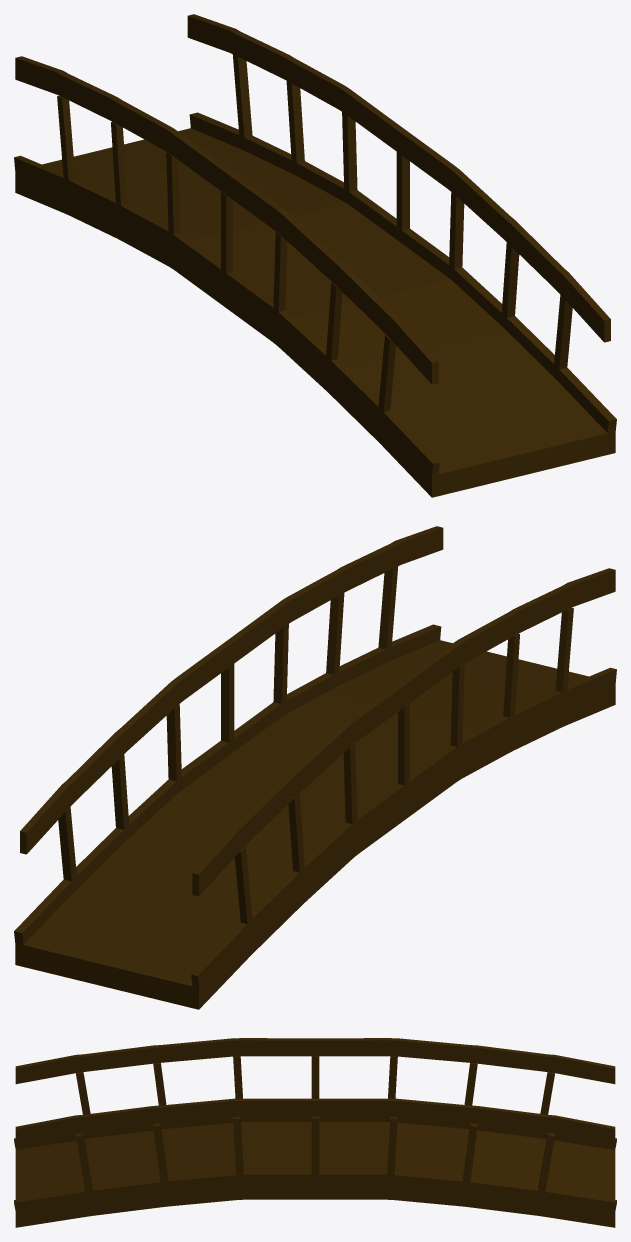
The model's file is Bridge.fbx.
3 views of the same model, one above another, from view 1: azimuth 30°, elevation 25°; view 2: azimuth 150°, elevation 25°; view 3: azimuth 270°, elevation 25° (orthographic). The views are drawn at different scales.
Visible parts, largest first — view 1: Bridge_geo, Fence_geo; view 2: Bridge_geo, Fence_geo; view 3: Bridge_geo, Fence_geo.
Boxes of the visible parts, bbox=[...] form: Bridge_geo: bbox=[14, 54, 616, 497]; Fence_geo: bbox=[15, 14, 610, 384]; Bridge_geo: bbox=[14, 566, 616, 1009]; Fence_geo: bbox=[20, 526, 615, 896]; Bridge_geo: bbox=[14, 1056, 616, 1227]; Fence_geo: bbox=[15, 1038, 615, 1144].
Size of the model in its own units: 8.84 by 8 by 34.93.
